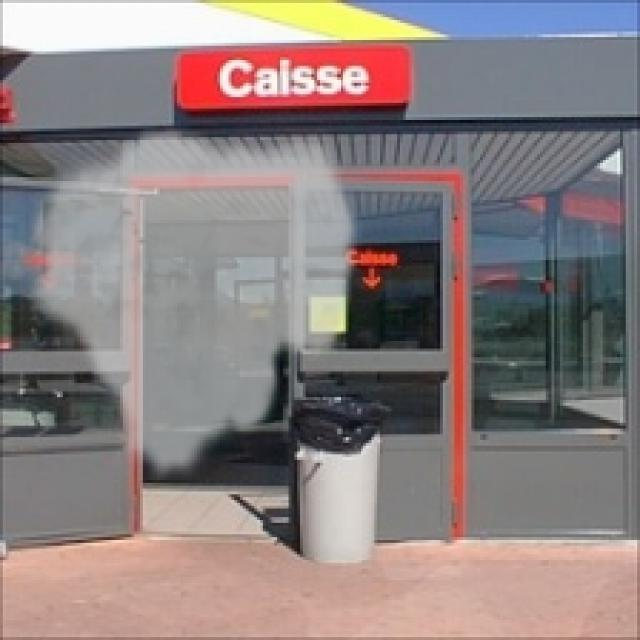Smoke: (20, 123, 363, 486)
